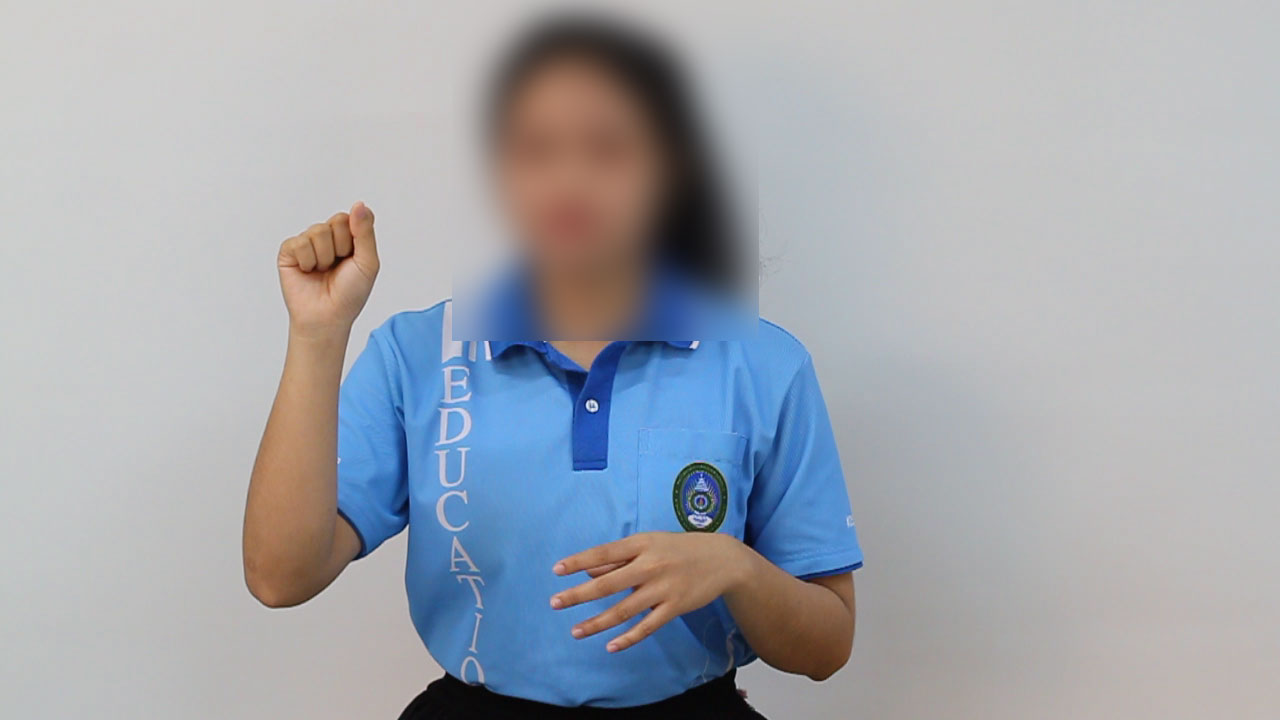sor: (268, 186, 392, 343)
